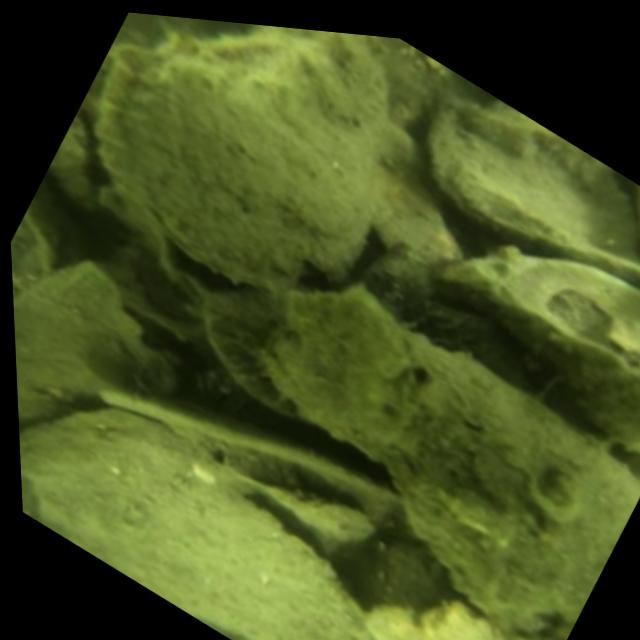Oyster-Indeterminate: (274, 291, 640, 640), (20, 407, 380, 640), (123, 35, 380, 289), (12, 254, 202, 432), (443, 240, 640, 365)
